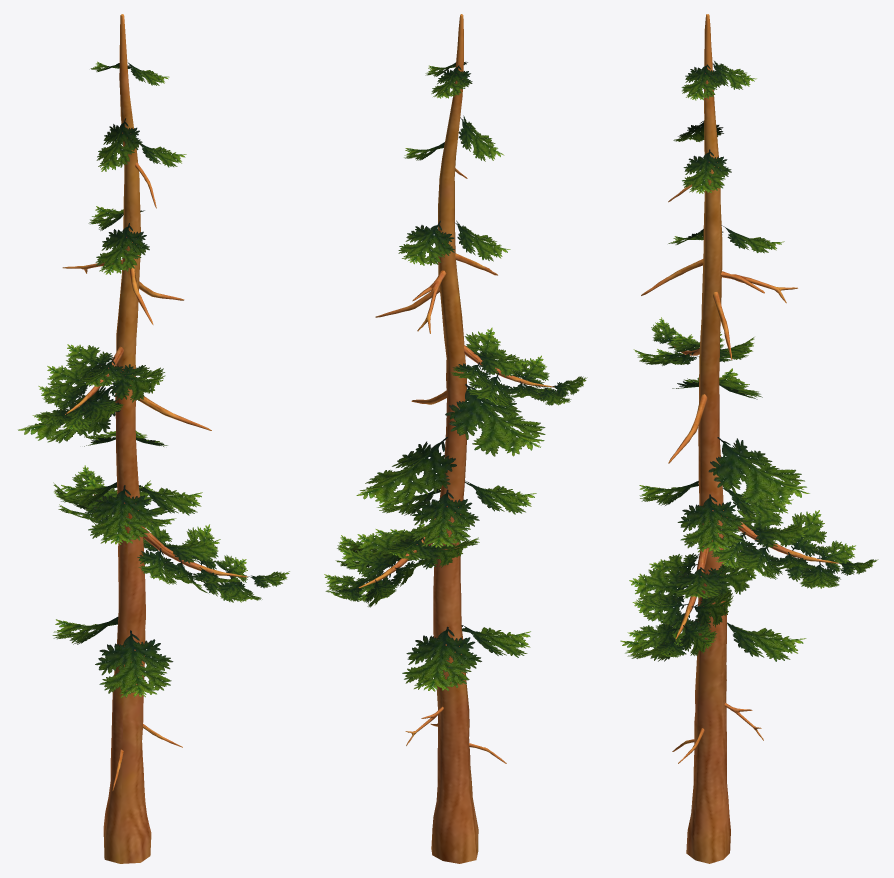
Rendered from Pine model  A (5).glb.
3 renders of one model, left to right at view 1: azimuth 30°, elevation 25°; view 2: azimuth 150°, elevation 25°; view 3: azimuth 270°, elevation 25°, orthographic.
Parts seen in each view (by area): view 1: stylized_pine_var4_m_leaves_0, stylized_pine_var4_m_trunk_0; view 2: stylized_pine_var4_m_leaves_0, stylized_pine_var4_m_trunk_0; view 3: stylized_pine_var4_m_leaves_0, stylized_pine_var4_m_trunk_0.
Boxes of the visible parts, left/top/right/bottom form: stylized_pine_var4_m_leaves_0: left=18, top=61, right=289, bottom=697; stylized_pine_var4_m_trunk_0: left=62, top=14, right=247, bottom=863; stylized_pine_var4_m_leaves_0: left=324, top=62, right=587, bottom=691; stylized_pine_var4_m_trunk_0: left=359, top=14, right=554, bottom=863; stylized_pine_var4_m_leaves_0: left=620, top=61, right=878, bottom=661; stylized_pine_var4_m_trunk_0: left=641, top=14, right=838, bottom=863.
Size of the model in its own units: 445 by 1436 by 408.
Materials: 2 (2 with a texture image).
